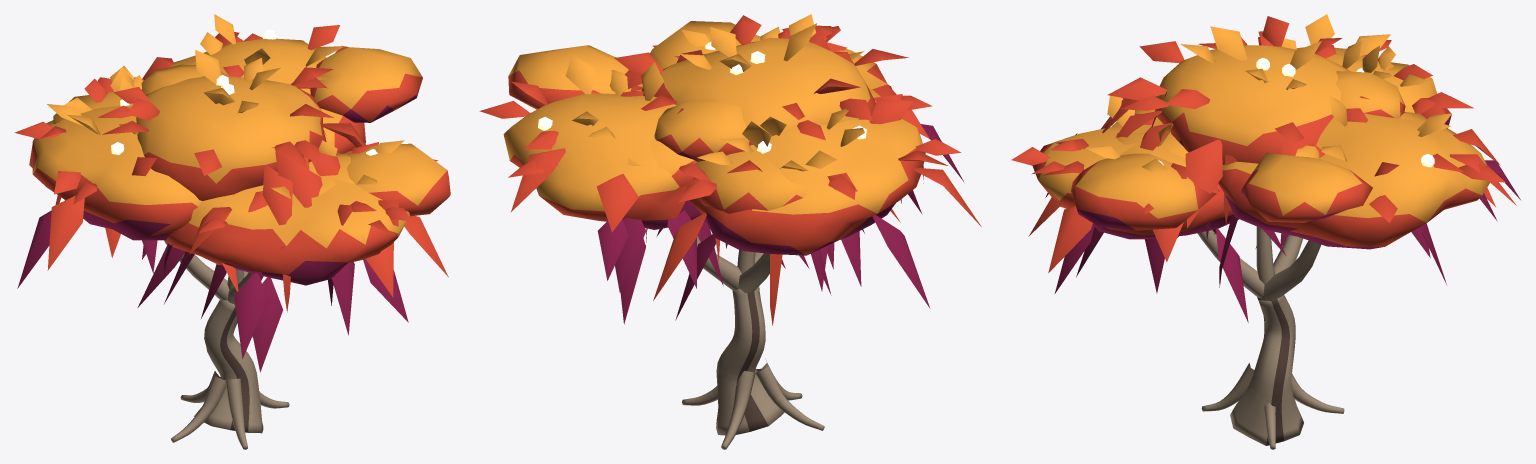
Rendered from tree_broadleaf_b.glb.
3 views of the same model, side by side, from view 1: azimuth 30°, elevation 25°; view 2: azimuth 150°, elevation 25°; view 3: azimuth 270°, elevation 25° (orthographic). The views are drawn at different scales.
Visible parts, largest first — view 1: tree_broadleaf_b_mesh; view 2: tree_broadleaf_b_mesh; view 3: tree_broadleaf_b_mesh.
Part boxes in pixels (x1,y1,x2,y2): tree_broadleaf_b_mesh: [14, 14, 450, 449]; tree_broadleaf_b_mesh: [479, 14, 981, 449]; tree_broadleaf_b_mesh: [1011, 14, 1520, 449].
Bounding box in the file's own units: 8.33 × 7.33 × 8.8.
